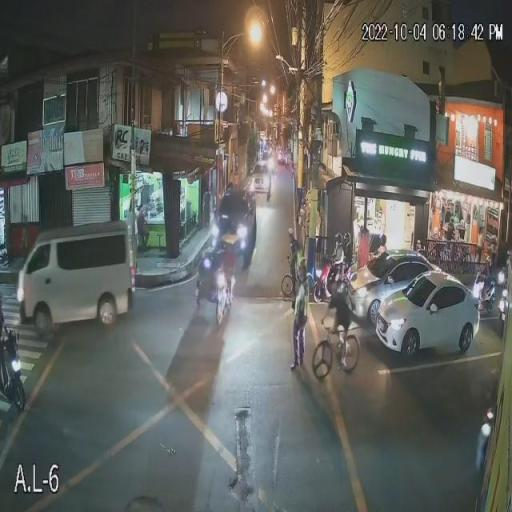helmet: (342, 232, 352, 246), (334, 233, 344, 246)
motorcycle: (0, 329, 28, 413), (206, 265, 236, 325), (309, 261, 346, 305), (476, 270, 502, 324), (196, 256, 218, 306)
rider: (322, 275, 356, 348), (195, 235, 220, 295), (216, 240, 238, 298), (328, 246, 344, 282), (343, 245, 356, 274)
